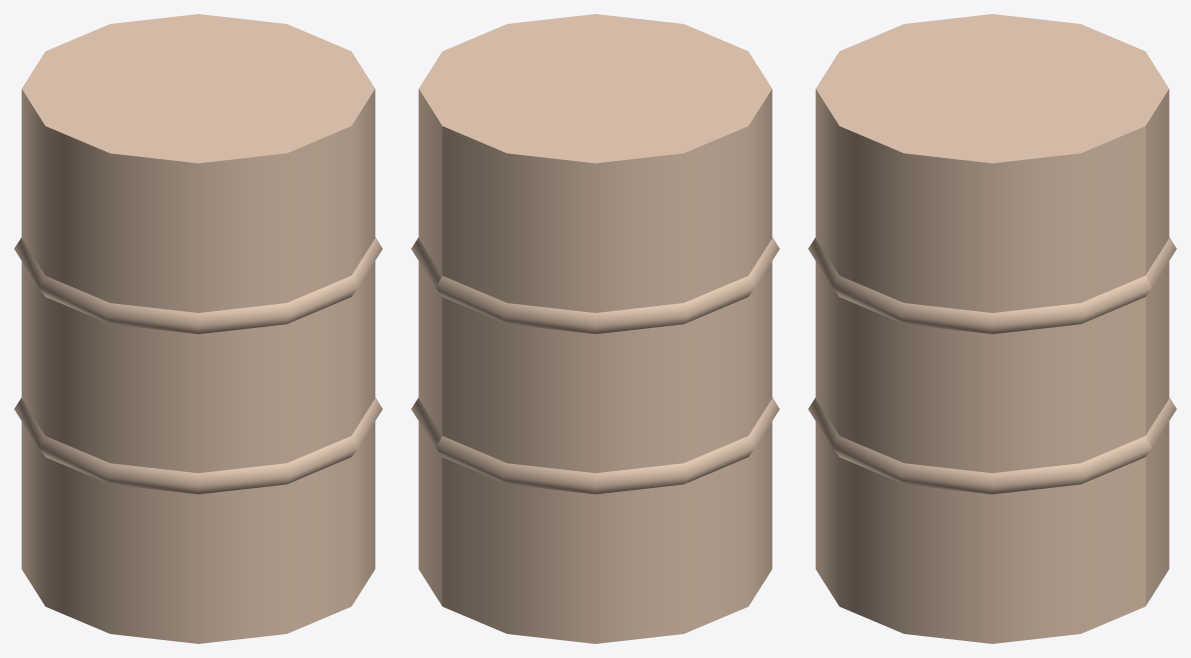
The model's file is Barrelrusted2.fbx.
The picture shows the model from 3 angles, left to right: view 1: azimuth 30°, elevation 25°; view 2: azimuth 150°, elevation 25°; view 3: azimuth 270°, elevation 25°; orthographic projection.
Parts seen in each view (by area): view 1: AF_RemadePhysBarrel; view 2: AF_RemadePhysBarrel; view 3: AF_RemadePhysBarrel.
Part boxes in pixels (x1=…): AF_RemadePhysBarrel: x1=14, y1=14, x2=382, y2=643; AF_RemadePhysBarrel: x1=411, y1=14, x2=779, y2=643; AF_RemadePhysBarrel: x1=808, y1=14, x2=1176, y2=643.
Size of the model in its own units: 96.64 by 139 by 96.64.
